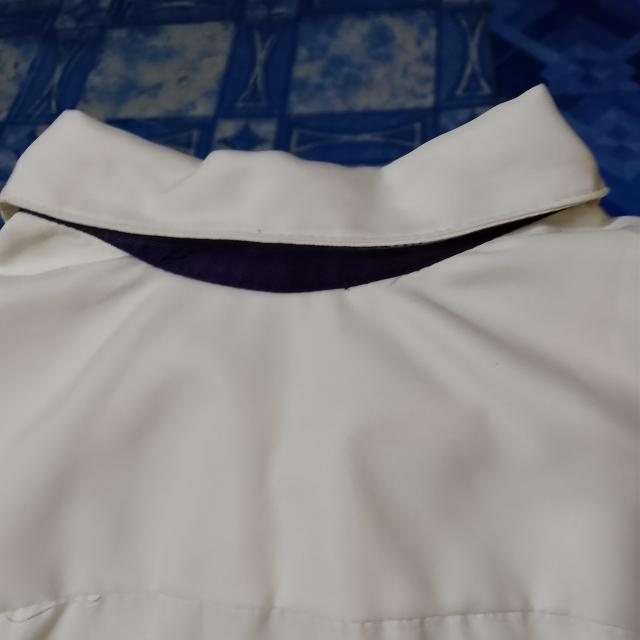education_male_uniform: (0, 53, 640, 468)
